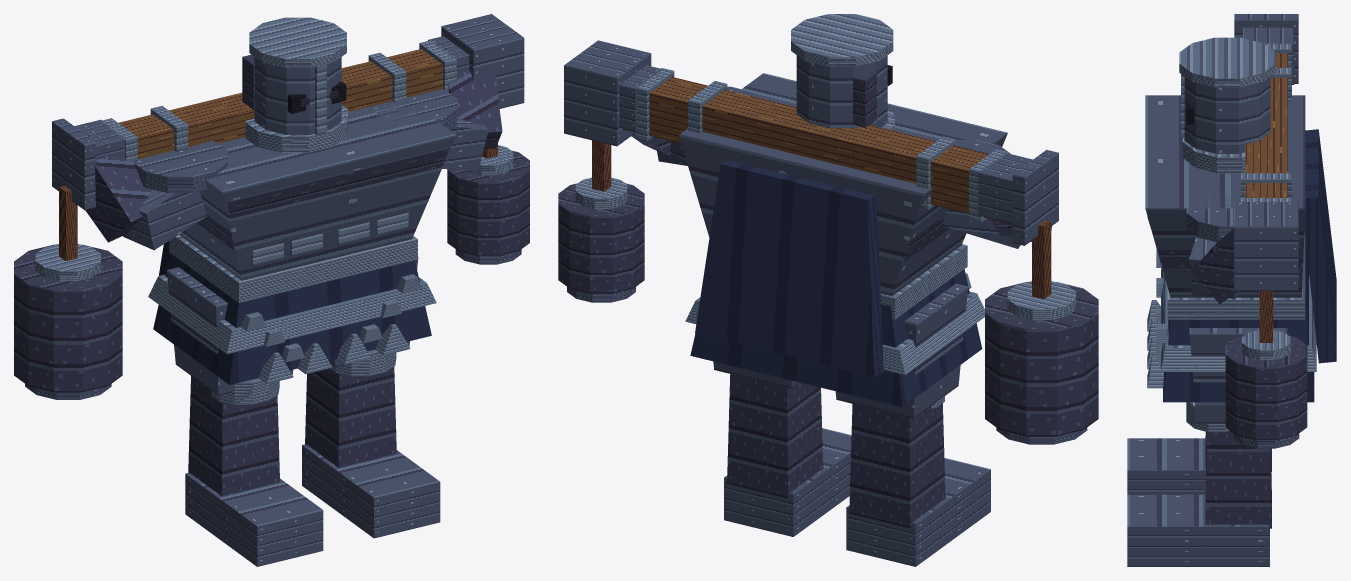
Rendered from gruftwaechter_C.glb.
The picture shows the model from 3 angles, left to right: view 1: azimuth 30°, elevation 25°; view 2: azimuth 150°, elevation 25°; view 3: azimuth 270°, elevation 25°; orthographic projection. The views are drawn at different scales.
Parts seen in each view (by area): view 1: torso, yoke, leg_l, leg_r, head, arm_l, arm_r; view 2: torso, yoke, leg_l, leg_r, head, arm_l, arm_r; view 3: torso, yoke, leg_r, head, leg_l, arm_r, arm_l.
Boxes of the visible parts, x1,y1,x2,y2 form: torso: (134,89,457,384); yoke: (14,14,529,399); leg_l: (166,267,323,566); leg_r: (302,256,440,538); head: (242,17,346,134); arm_l: (74,119,206,250); arm_r: (428,36,502,171); torso: (679,73,1010,407); yoke: (558,40,1098,444); leg_l: (835,284,990,566); leg_r: (713,361,851,536); head: (791,14,893,128); arm_l: (942,153,1051,248); arm_r: (619,65,687,165); torso: (1145,95,1336,402); yoke: (1225,14,1307,448); leg_r: (1127,328,1287,566); head: (1179,37,1275,153); leg_l: (1127,432,1271,494); arm_r: (1189,228,1238,303); arm_l: (1243,27,1294,84).
Size of the model in its own units: 2.59 by 2.31 by 0.9398.
1 material, 1 textured.
